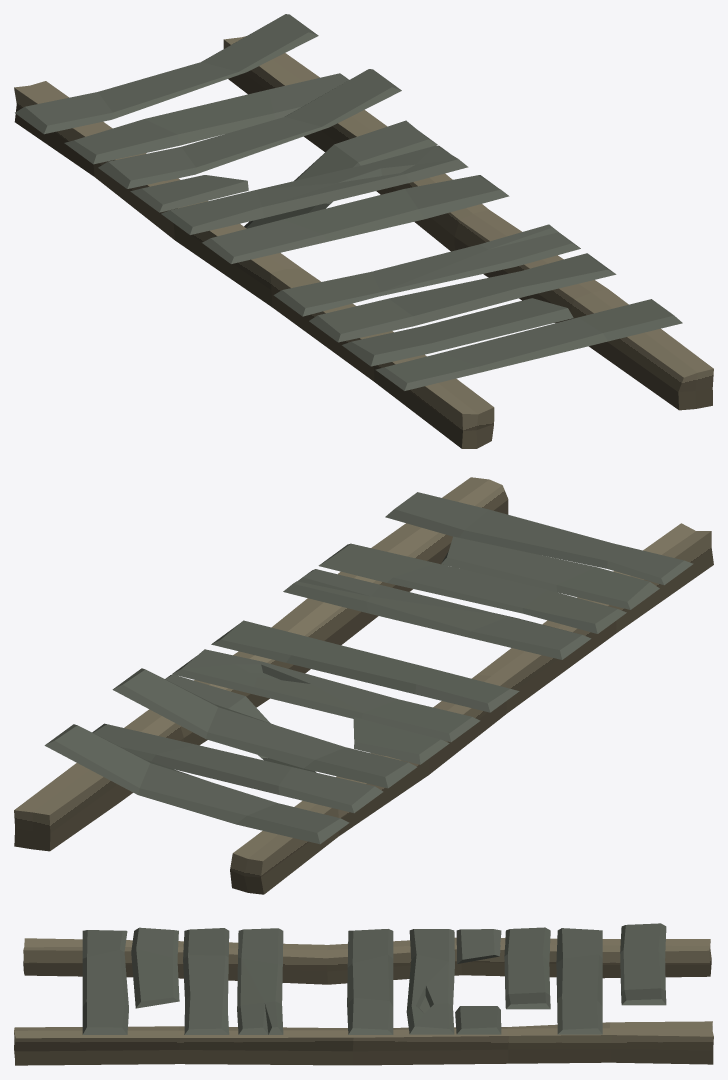
The model's file is Bridge.fbx.
The picture shows the model from 3 angles, top to bottom: view 1: azimuth 30°, elevation 25°; view 2: azimuth 150°, elevation 25°; view 3: azimuth 270°, elevation 25°; orthographic projection. The views are drawn at different scales.
Parts seen in each view (by area): view 1: Bridge; view 2: Bridge; view 3: Bridge.
Boxes of the visible parts, bbox=[...] form: Bridge: bbox=[14, 14, 713, 448]; Bridge: bbox=[14, 477, 713, 894]; Bridge: bbox=[14, 923, 713, 1065].
Size of the model in its own units: 81.35 by 29.81 by 224.
Materials: 1 (1 with a texture image).
